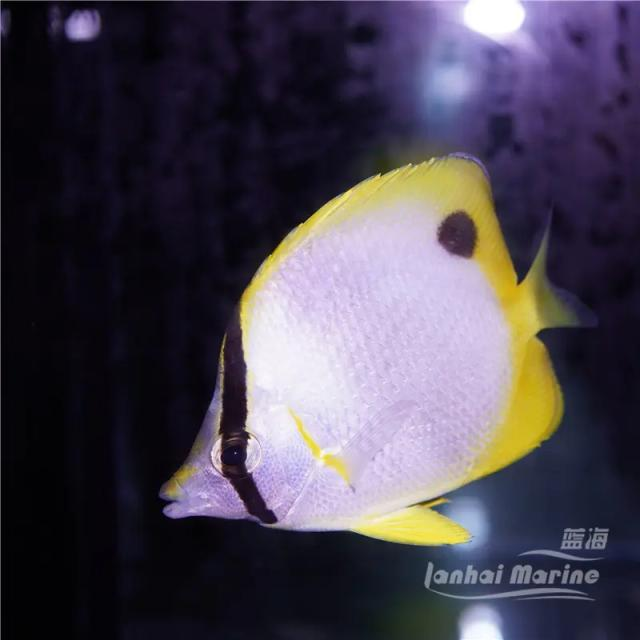ButterflyFish: (156, 148, 592, 542)
